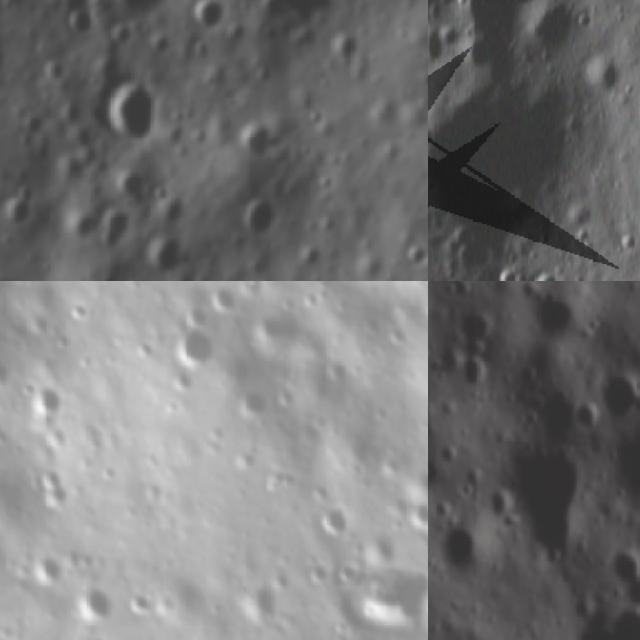crater: (498, 442, 592, 566), (355, 561, 428, 632), (94, 75, 164, 149), (540, 287, 593, 350), (601, 540, 640, 611), (169, 317, 222, 368), (256, 0, 342, 30), (462, 306, 512, 357), (525, 0, 569, 55), (594, 378, 640, 427), (67, 581, 115, 627), (238, 194, 284, 240), (94, 208, 138, 254), (141, 237, 184, 281), (234, 120, 280, 160), (112, 168, 157, 205), (36, 465, 72, 511), (229, 382, 270, 422), (243, 583, 279, 628), (0, 192, 36, 230), (187, 0, 224, 36), (203, 281, 240, 317), (568, 398, 602, 437), (592, 60, 629, 94), (333, 31, 365, 70), (36, 379, 68, 418), (316, 508, 356, 538), (396, 236, 428, 272), (66, 5, 98, 41), (112, 0, 175, 18), (36, 57, 70, 89), (165, 363, 197, 397), (65, 296, 97, 326), (34, 550, 62, 584), (301, 557, 330, 588), (332, 557, 362, 586), (184, 298, 210, 330), (428, 25, 444, 68), (270, 566, 296, 592), (130, 336, 155, 363), (327, 353, 351, 380), (303, 106, 327, 131), (387, 322, 411, 346), (409, 499, 428, 528), (0, 352, 11, 387), (530, 271, 567, 281), (77, 630, 112, 640), (496, 268, 521, 281), (241, 281, 265, 292)
